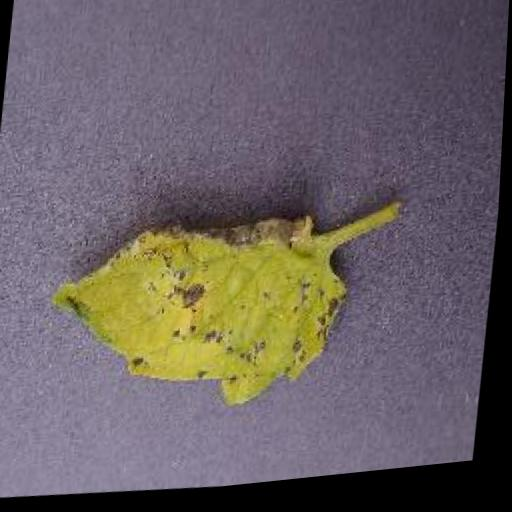Septoria: (38, 199, 357, 440)
